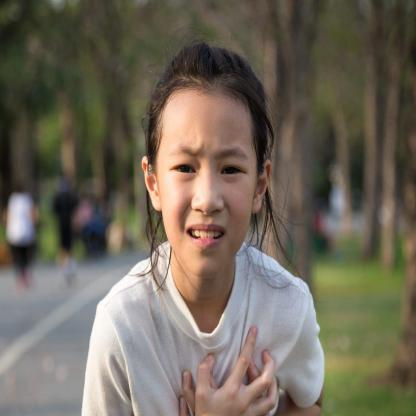pain: (159, 139, 249, 189)
